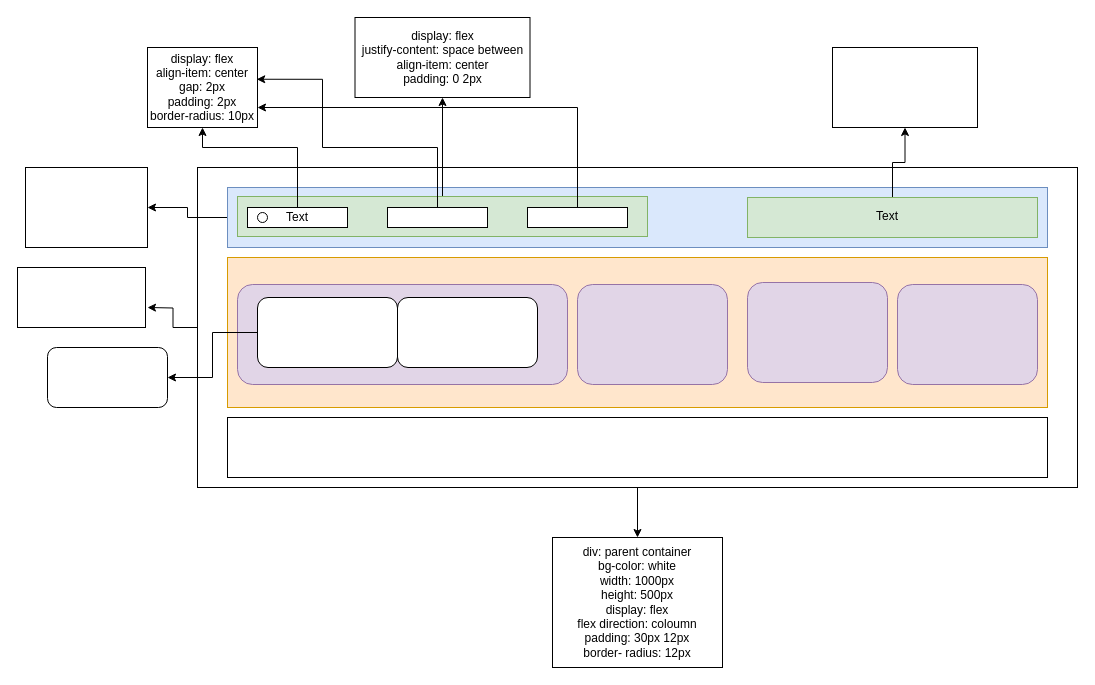
This 1095x685 diagram has some shape labels left out. Each missing label, with the centre of its shape:
anchor tag padding: 5px 0 font-weight: bold font-size:12px text-align: right: point 905,87
display: flex align-item: center justify-content: space-between padding: 5px 0: point 86,207
display: flex border: 1px solid silver border-radius: 8px: point 81,297
